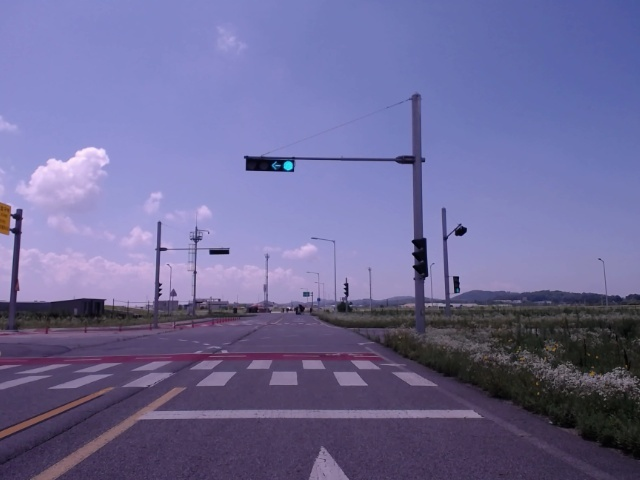all_green_4: (245, 157, 297, 172)
